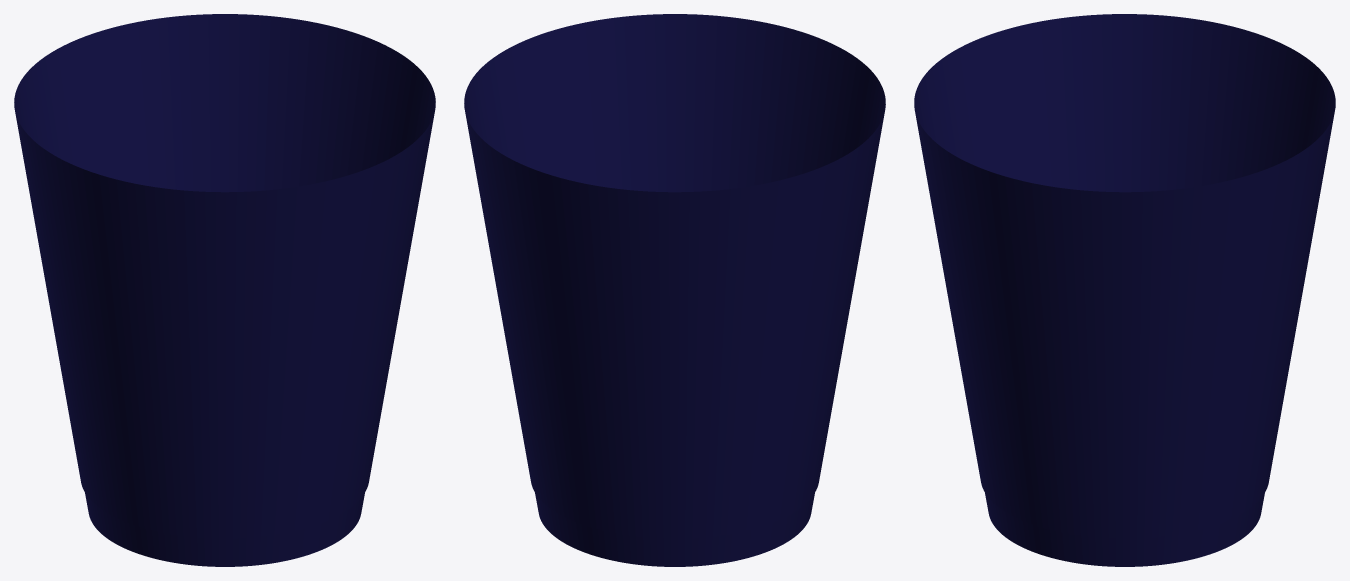
3 renders of one model, left to right at view 1: azimuth 30°, elevation 25°; view 2: azimuth 150°, elevation 25°; view 3: azimuth 270°, elevation 25°, orthographic.
Parts seen in each view (by area): view 1: Cylinder; view 2: Cylinder; view 3: Cylinder.
Boxes of the visible parts, x1,y1,x2,y2 form: Cylinder: [14, 14, 435, 566]; Cylinder: [464, 14, 885, 566]; Cylinder: [914, 14, 1335, 566].
Bounding box in the file's own units: 2.02 × 2.02 × 2.15.
